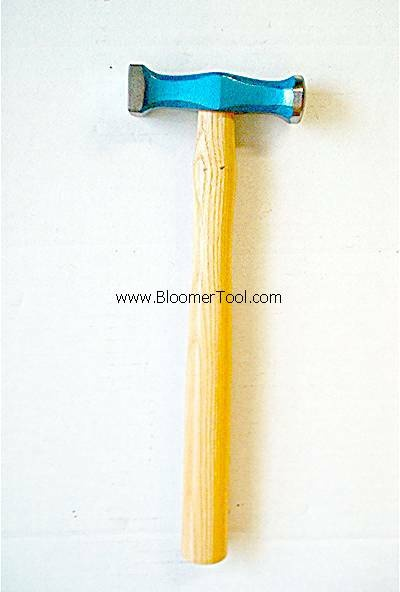hammer: (123, 60, 308, 568)
